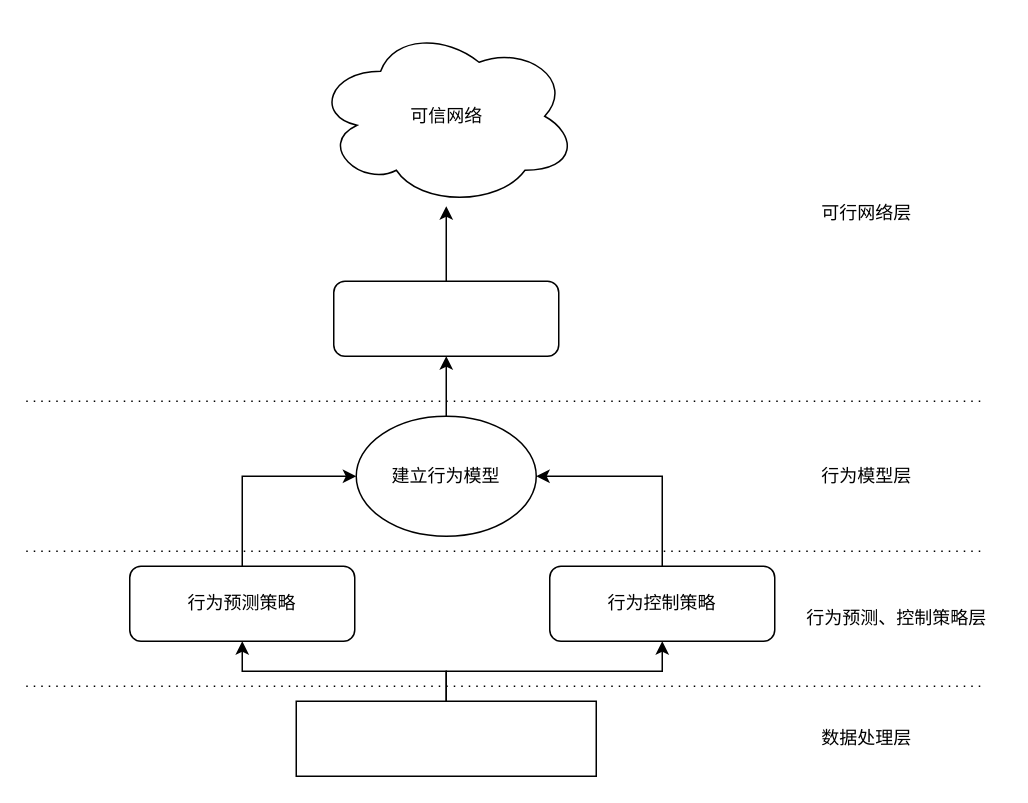
Some shapes in this 1028 by 803 pixel diagram are drawn without their labels. The centre of each missing label's shape, as x and y in pixels:
行为数据量化: pixel 445 738
行为管理、预测: pixel 445 318
